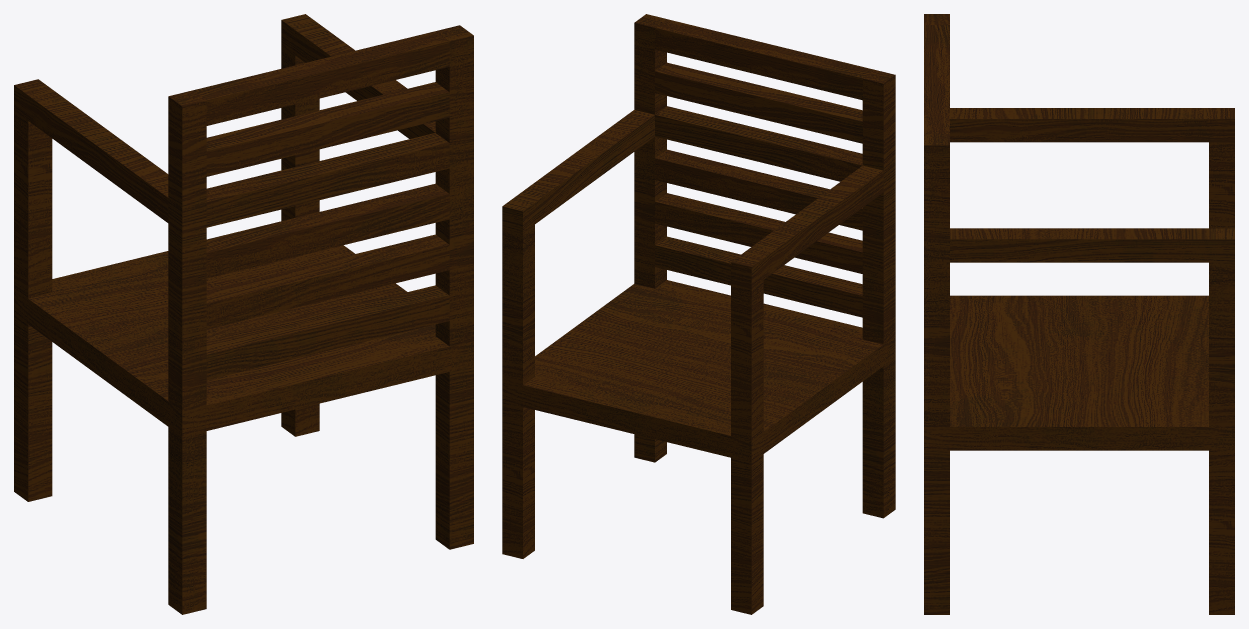
The model's file is chair.glb.
The picture shows the model from 3 angles, left to right: view 1: azimuth 30°, elevation 25°; view 2: azimuth 150°, elevation 25°; view 3: azimuth 270°, elevation 25°; orthographic projection. The views are drawn at different scales.
Parts seen in each view (by area): view 1: chair; view 2: chair; view 3: chair.
Part boxes in pixels (bbox=[...]): chair: bbox=[14, 14, 473, 614]; chair: bbox=[502, 14, 895, 614]; chair: bbox=[924, 14, 1234, 614].
Size of the model in its own units: 2.4 by 4 by 2.4.
1 material, 1 textured.
